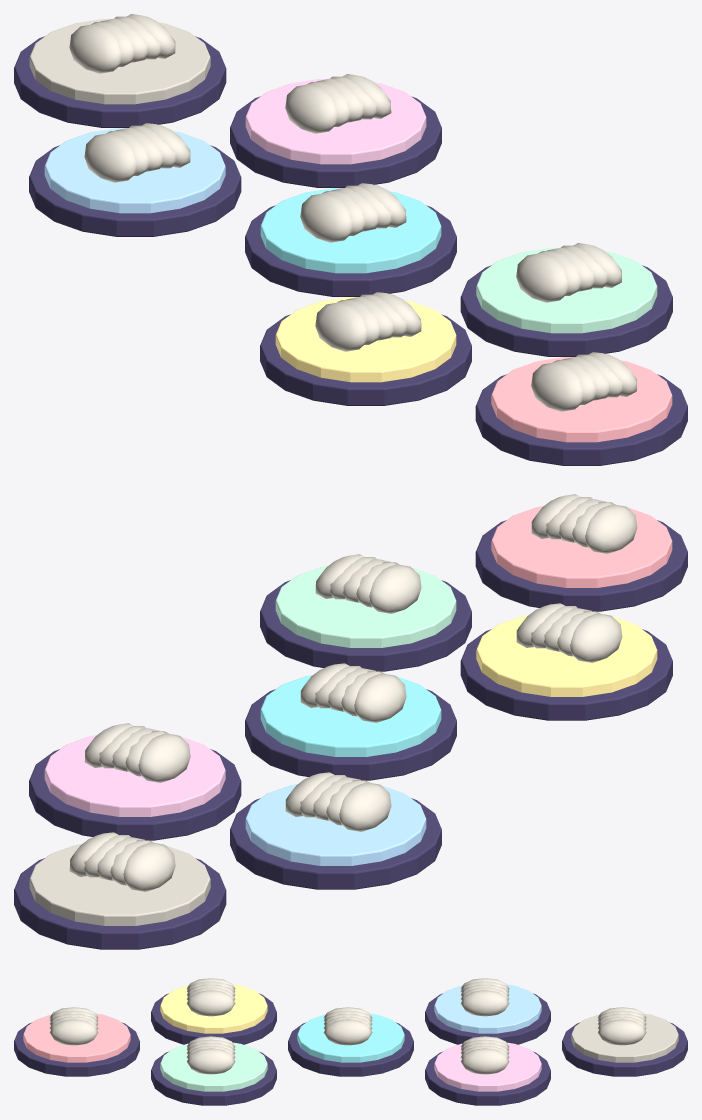
Rendered from pearl_shell_hopscotch.glb.
3 renders of one model, top to bottom at view 1: azimuth 30°, elevation 25°; view 2: azimuth 150°, elevation 25°; view 3: azimuth 270°, elevation 25°, orthographic. The views are drawn at different scales.
Visible parts, largest first — view 1: pearl_shell_hopscotch.001; view 2: pearl_shell_hopscotch.001; view 3: pearl_shell_hopscotch.001.
Boxes of the visible parts, box(x1,y1,x2,y2) form: pearl_shell_hopscotch.001: box(14, 14, 687, 465); pearl_shell_hopscotch.001: box(14, 494, 687, 949); pearl_shell_hopscotch.001: box(14, 978, 687, 1105).
Size of the model in its own units: 4.49 by 0.69 by 11.56.
